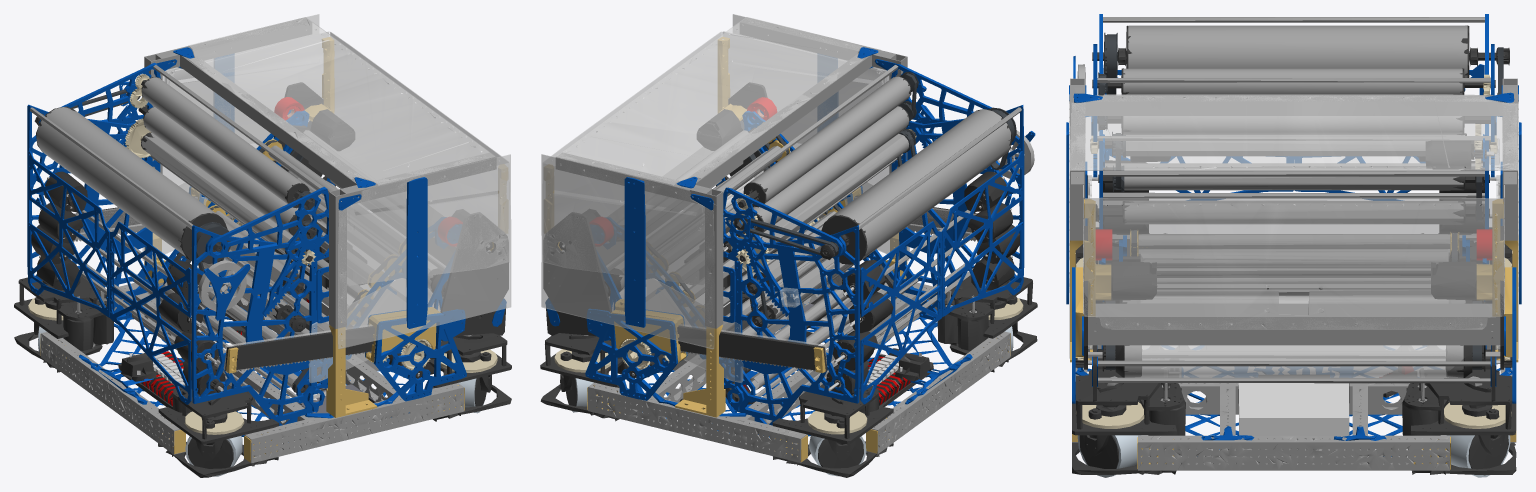
File: robot-preview.glb
3 views of the same model, side by side, from view 1: azimuth 30°, elevation 25°; view 2: azimuth 150°, elevation 25°; view 3: azimuth 270°, elevation 25° (orthographic). The views are drawn at different scales.
Parts seen in each view (by area): view 1: static-geometry, intake-geometry, roller-flywheel-geometry, hood-geometry, roller-hood-upper-geometry, roller-hood-lower-geometry, roller-feeder-3-geometry, wheel-br-geometry, roller-flywheel-inertia-geometry, roller-conveyor-3-geometry, roller-feeder-1-geometry, roller-conveyor-11-geometry (+4 smaller); view 2: static-geometry, intake-geometry, roller-flywheel-geometry, hood-geometry, roller-hood-upper-geometry, roller-hood-lower-geometry, roller-feeder-3-geometry, wheel-bl-geometry, roller-feeder-1-geometry, roller-conveyor-3-geometry, roller-conveyor-11-geometry, roller-conveyor-10-geometry (+4 smaller); view 3: static-geometry, intake-geometry, roller-flywheel-geometry, roller-intake-1-geometry, roller-hood-upper-geometry, roller-feeder-1-geometry, roller-hood-lower-geometry, roller-feeder-2-geometry, hood-geometry, roller-feeder-3-geometry, roller-conveyor-2-geometry, roller-conveyor-1-geometry (+7 smaller).
Boxes of the visible parts, x1,y1,x2,y2 form: static-geometry: (14,14,511,477); intake-geometry: (73,31,509,373); roller-flywheel-geometry: (34,106,230,263); hood-geometry: (37,62,328,316); roller-hood-upper-geometry: (135,74,314,209); roller-hood-lower-geometry: (138,106,316,239); roller-feeder-3-geometry: (141,132,308,260); wheel-br-geometry: (185,436,242,476); roller-flywheel-inertia-geometry: (199,260,246,311); roller-conveyor-3-geometry: (262,139,368,215); roller-feeder-1-geometry: (202,258,306,331); roller-conveyor-11-geometry: (161,282,308,393); static-geometry: (540,14,1037,477); intake-geometry: (542,31,978,373); roller-flywheel-geometry: (820,107,1016,264); hood-geometry: (723,63,991,316); roller-hood-upper-geometry: (737,72,918,209); roller-hood-lower-geometry: (736,101,916,236); roller-feeder-3-geometry: (759,128,915,251); wheel-bl-geometry: (808,435,866,476); roller-feeder-1-geometry: (752,258,850,326); roller-conveyor-3-geometry: (684,140,789,214); roller-conveyor-11-geometry: (750,278,892,390); roller-conveyor-10-geometry: (731,260,882,375); static-geometry: (1066,14,1521,474); intake-geometry: (1082,118,1505,401); roller-flywheel-geometry: (1092,25,1509,77); roller-intake-1-geometry: (1088,345,1500,377); roller-hood-upper-geometry: (1092,68,1495,94); roller-feeder-1-geometry: (1096,201,1489,223); roller-hood-lower-geometry: (1092,116,1495,134); roller-feeder-2-geometry: (1098,166,1489,191); hood-geometry: (1091,44,1503,177); roller-feeder-3-geometry: (1112,132,1466,157); roller-conveyor-2-geometry: (1130,230,1458,252); roller-conveyor-1-geometry: (1118,250,1470,266).
Bounding box in the file's own units: 0.691 × 0.5548 × 0.7416.
